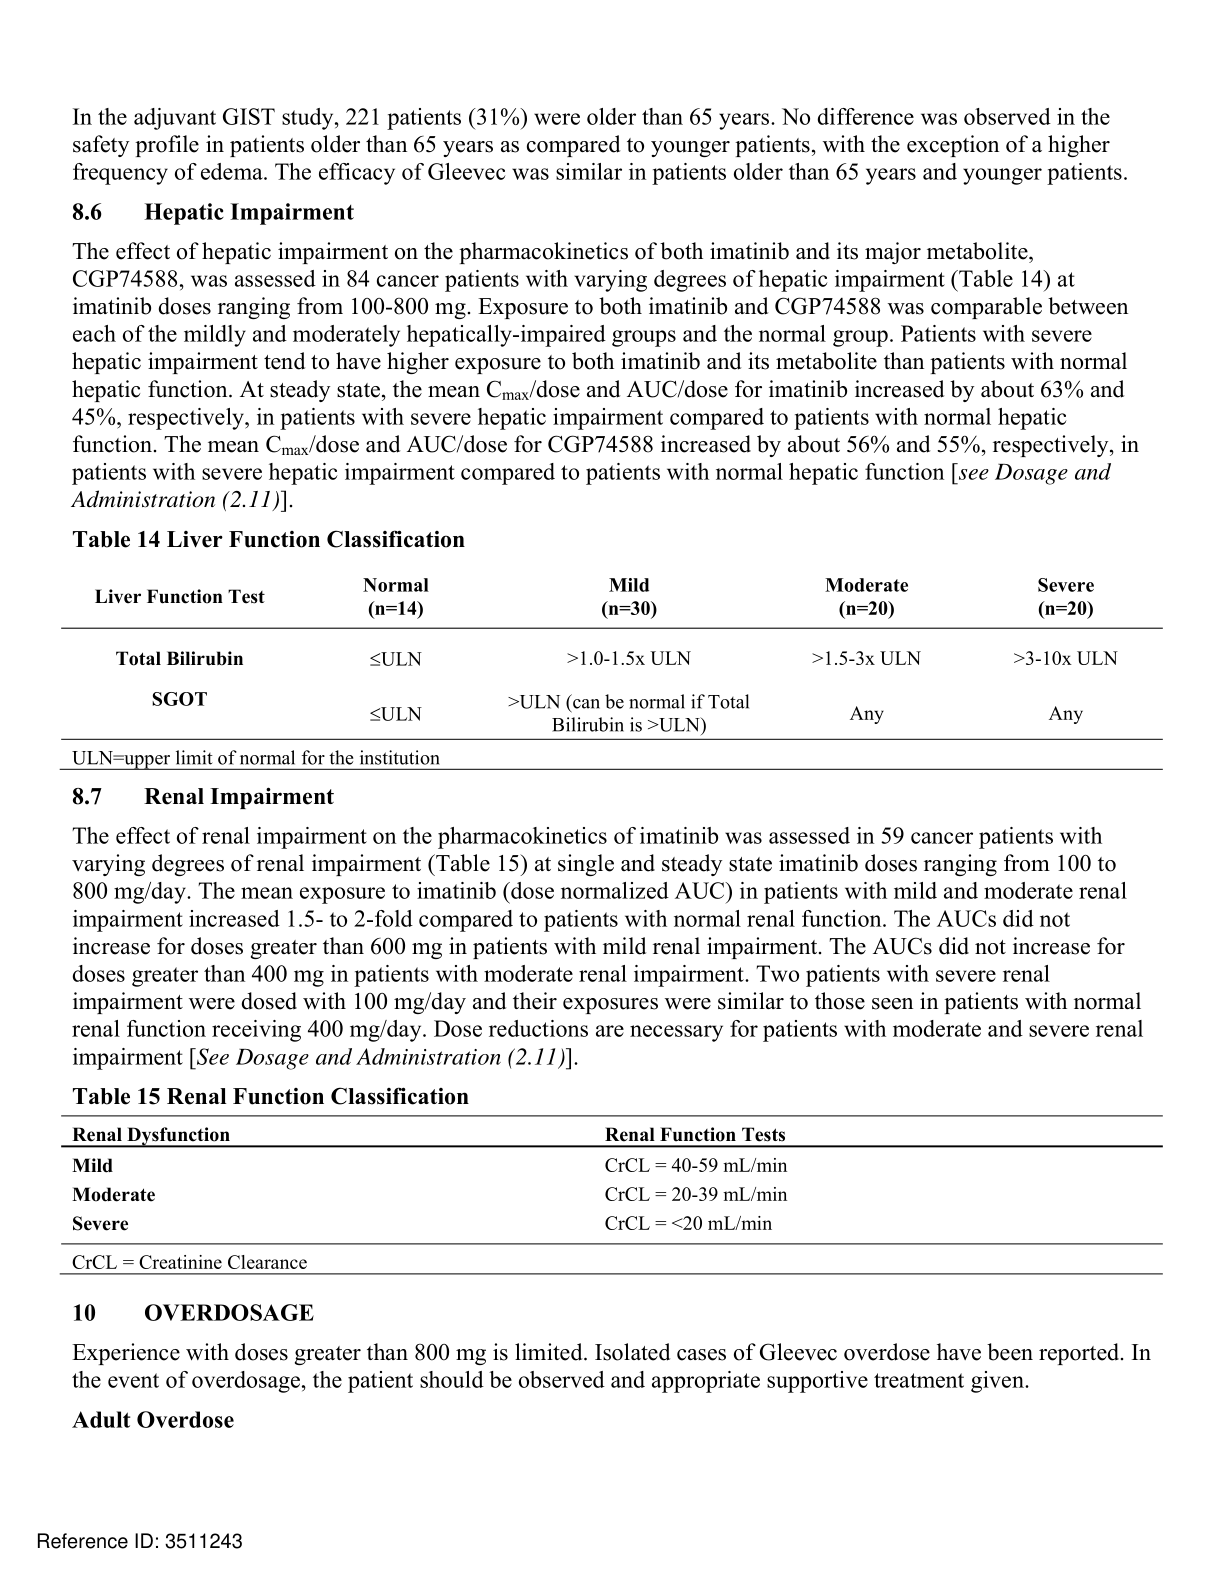partial_lined: (59, 572, 1164, 741), (59, 1113, 1164, 1245)
